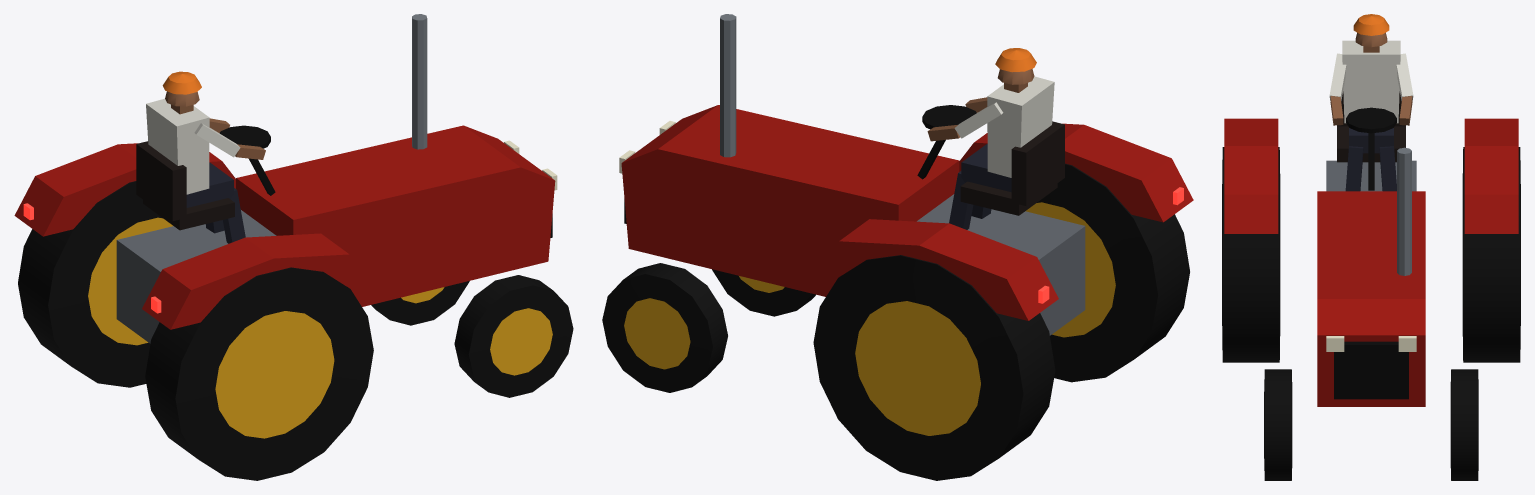
The model's file is tractor.glb.
The picture shows the model from 3 angles, left to right: view 1: azimuth 30°, elevation 25°; view 2: azimuth 150°, elevation 25°; view 3: azimuth 270°, elevation 25°; orthographic projection. The views are drawn at different scales.
Visible parts, largest first — view 1: tractor_body, wheel_rr.006, wheel_rl.006, wheel_fr.004, wheel_fl.004; view 2: tractor_body, wheel_rl.006, wheel_rr.006, wheel_fl.004, wheel_fr.004; view 3: tractor_body, wheel_rl.006, wheel_rr.006, wheel_fl.004, wheel_fr.004.
Part boxes in pixels (x1,y1,x2,y2): tractor_body: (14,14,557,343); wheel_rr.006: (145,267,373,480); wheel_rl.006: (18,181,172,387); wheel_fr.004: (454,275,573,397); wheel_fl.004: (371,281,469,325); tractor_body: (619,14,1193,335); wheel_rl.006: (813,255,1055,480); wheel_rr.006: (1025,163,1189,382); wheel_fl.004: (602,263,727,392); wheel_fr.004: (712,269,815,316); tractor_body: (1224,14,1518,406); wheel_rl.006: (1462,147,1520,362); wheel_rr.006: (1222,147,1280,362); wheel_fl.004: (1450,369,1478,480); wheel_fr.004: (1264,369,1292,480).
Bounding box in the file's own units: 3.21 × 2.42 × 1.99.
2 materials, 1 textured.
